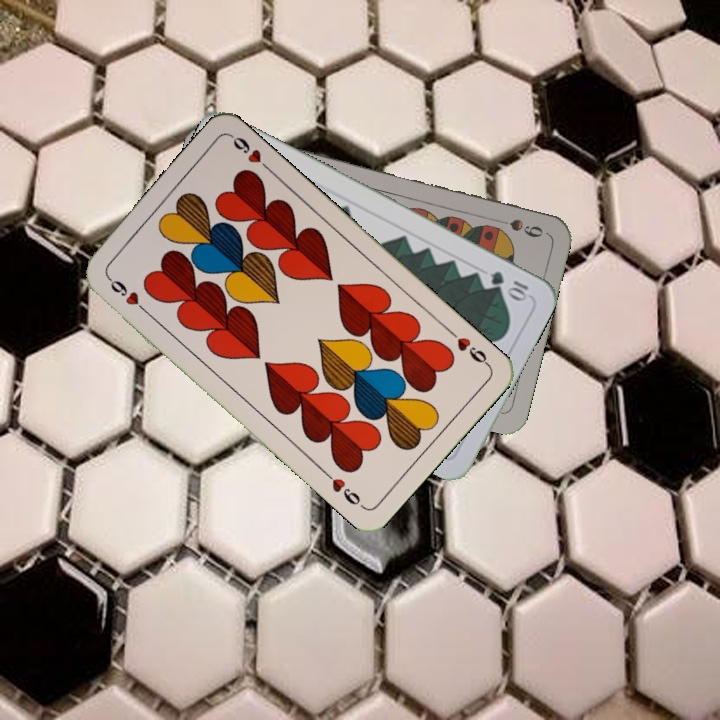G10: (486, 266, 532, 303)
H9: (103, 272, 151, 317), (444, 325, 492, 369)
S9: (489, 214, 546, 240)
